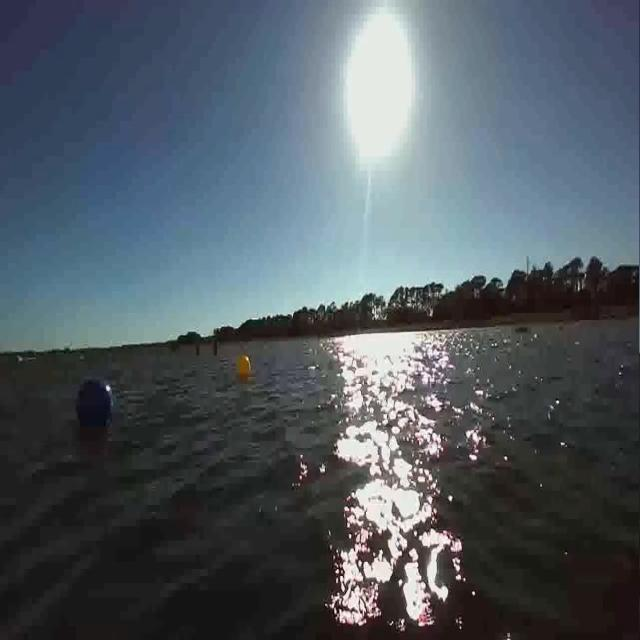blue-buoy: (76, 372, 117, 434)
yellow-buoy: (238, 352, 251, 377)
